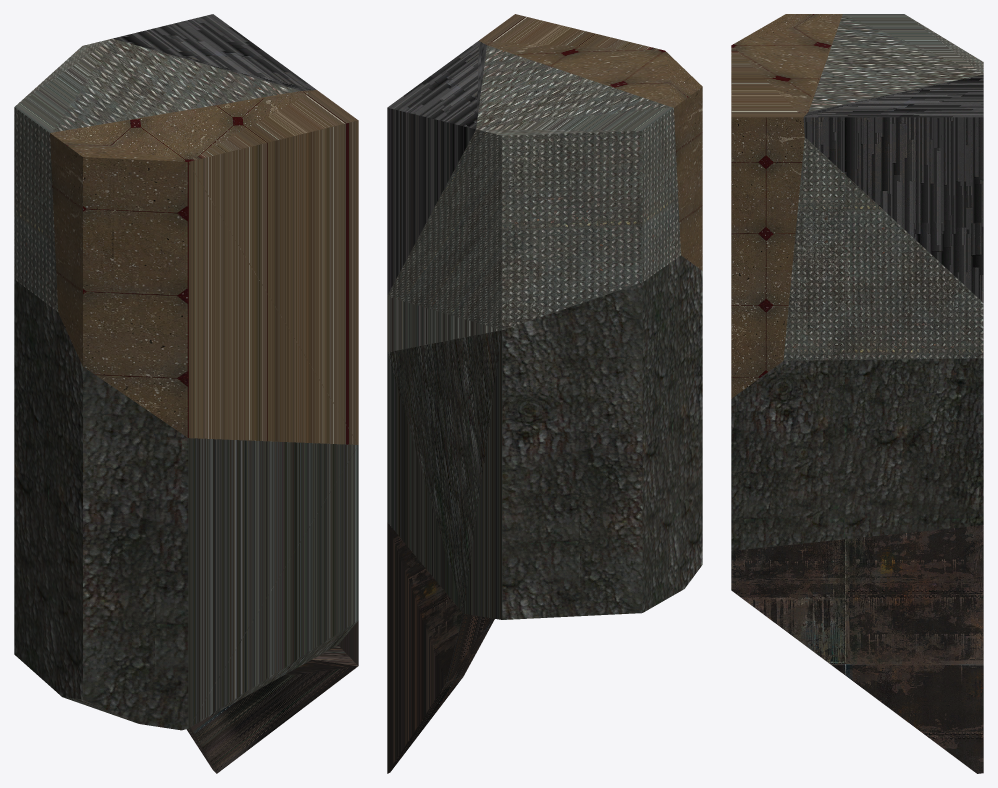
Rendered from batu_bangunan_hancur.glb.
3 views of the same model, side by side, from view 1: azimuth 30°, elevation 25°; view 2: azimuth 150°, elevation 25°; view 3: azimuth 270°, elevation 25° (orthographic). The views are drawn at different scales.
Visible parts, largest first — view 1: Batu_Hancur1, Batu_Hancur3, Batu_Hancur2, Batu_Hancur5, Batu_Hancur4; view 2: Batu_Hancur1, Batu_Hancur2, Batu_Hancur3, Batu_Hancur5, Batu_Hancur4; view 3: Batu_Hancur1, Batu_Hancur2, Batu_Hancur5, Batu_Hancur3, Batu_Hancur4.
Boxes of the visible parts, x1=… form: Batu_Hancur1: x1=14, y1=279, x2=358, y2=730; Batu_Hancur3: x1=50, y1=90, x2=358, y2=444; Batu_Hancur2: x1=14, y1=38, x2=300, y2=311; Batu_Hancur5: x1=186, y1=620, x2=358, y2=773; Batu_Hancur4: x1=113, y1=14, x2=316, y2=90; Batu_Hancur1: x1=387, y1=255, x2=702, y2=619; Batu_Hancur2: x1=387, y1=45, x2=680, y2=352; Batu_Hancur3: x1=479, y1=14, x2=702, y2=270; Batu_Hancur5: x1=387, y1=522, x2=494, y2=773; Batu_Hancur4: x1=387, y1=41, x2=486, y2=295; Batu_Hancur1: x1=731, y1=358, x2=983, y2=550; Batu_Hancur2: x1=783, y1=14, x2=983, y2=360; Batu_Hancur5: x1=731, y1=525, x2=983, y2=773; Batu_Hancur3: x1=731, y1=14, x2=842, y2=398; Batu_Hancur4: x1=803, y1=74, x2=983, y2=302.
Size of what is drawn, in the model's own units: 27.81 by 82.37 by 28.65.
6 materials, 6 textured.
